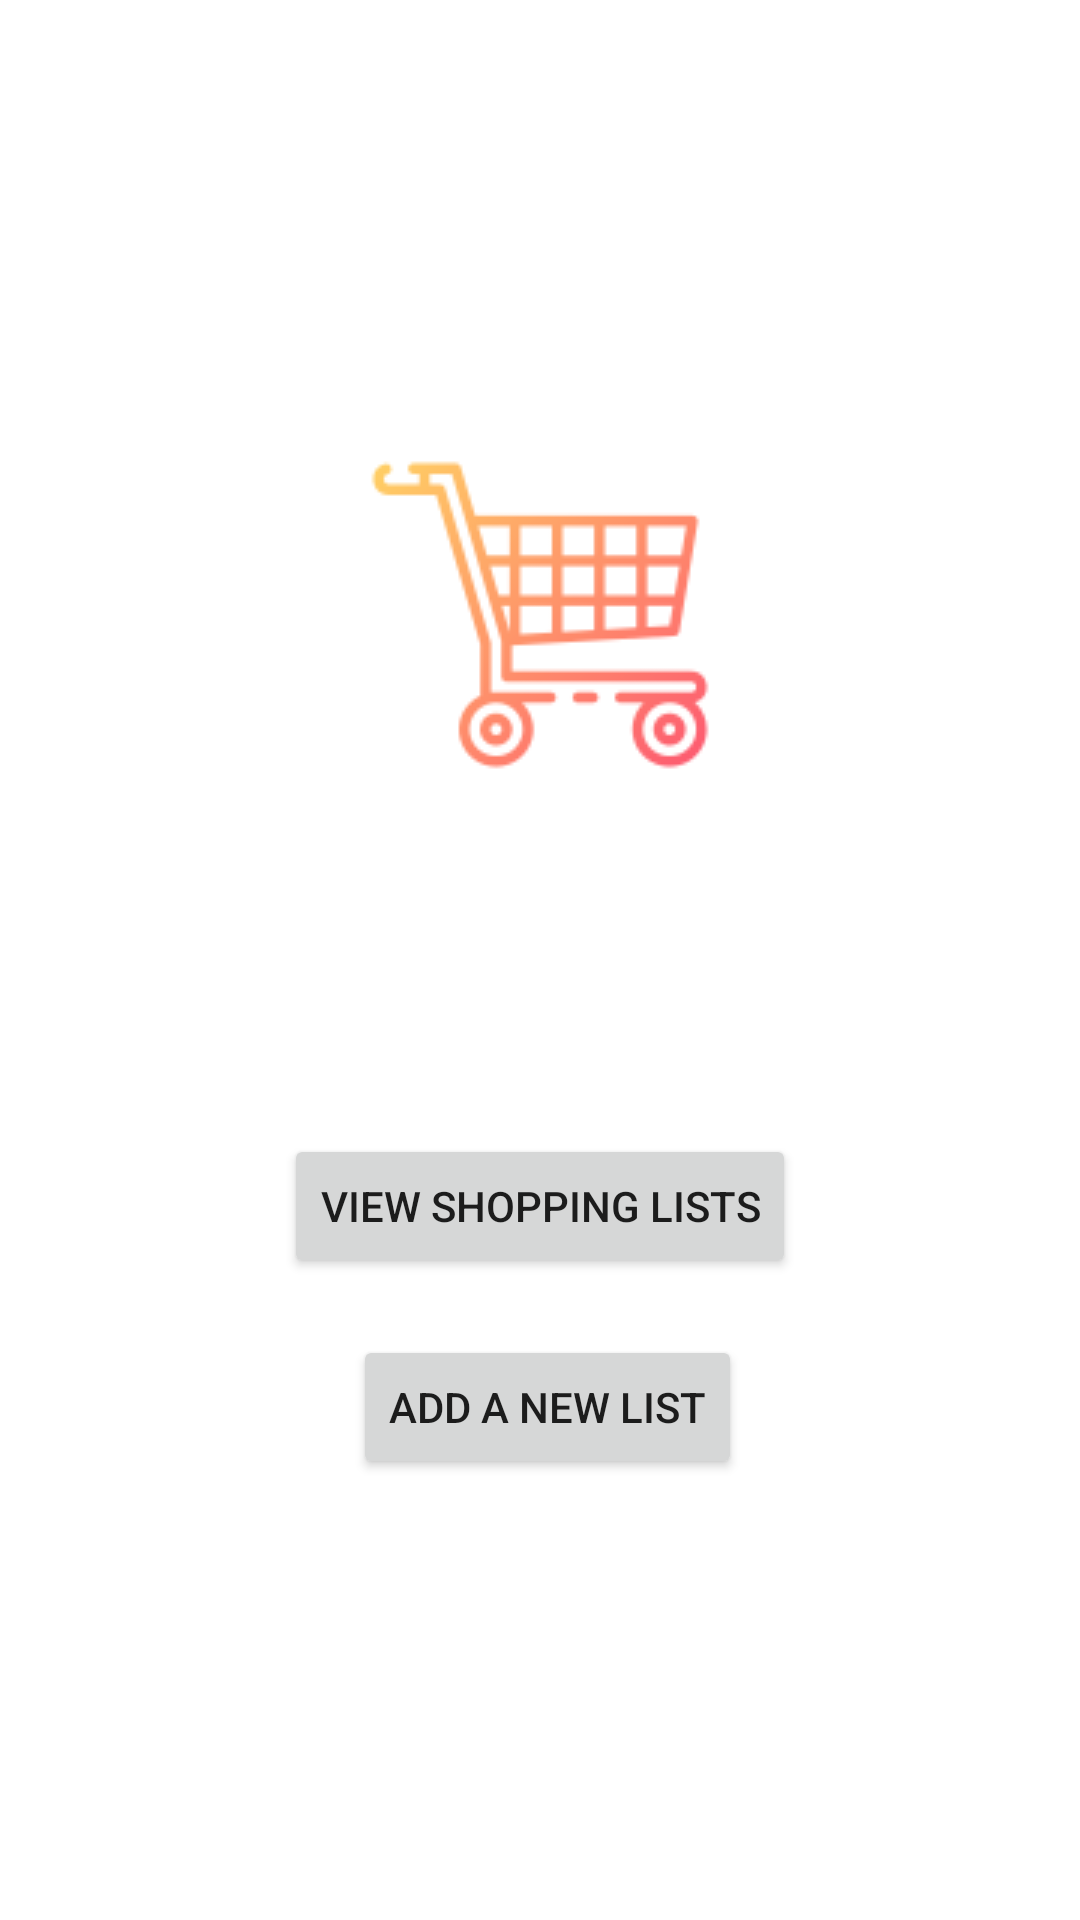

Screen size 1080×1920. Icon name, then its box in pixels as bbox(x1, y1, x2, y2):
caddie: bbox(371, 461, 709, 769)
